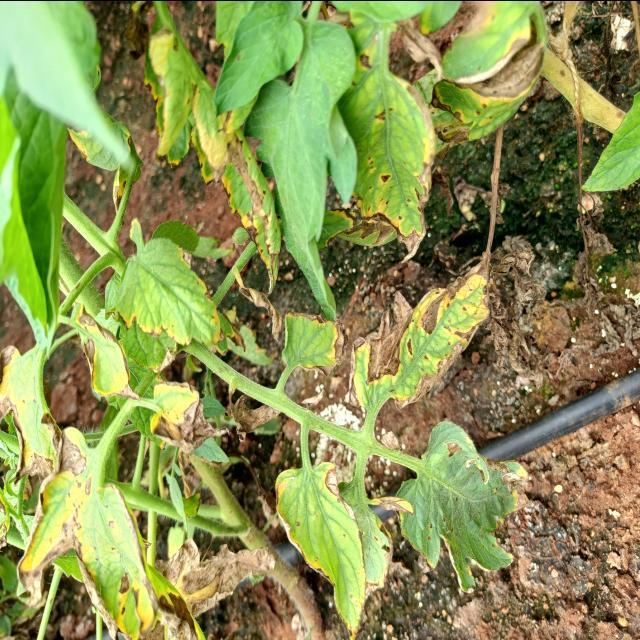Tomato mosaic virus leaf: (16, 422, 162, 640), (391, 419, 547, 597), (343, 249, 498, 412), (344, 29, 440, 273), (273, 458, 367, 640), (208, 96, 286, 296), (110, 228, 227, 358), (425, 46, 559, 148), (0, 339, 65, 488), (146, 371, 235, 456), (76, 316, 142, 422), (278, 304, 342, 377)
